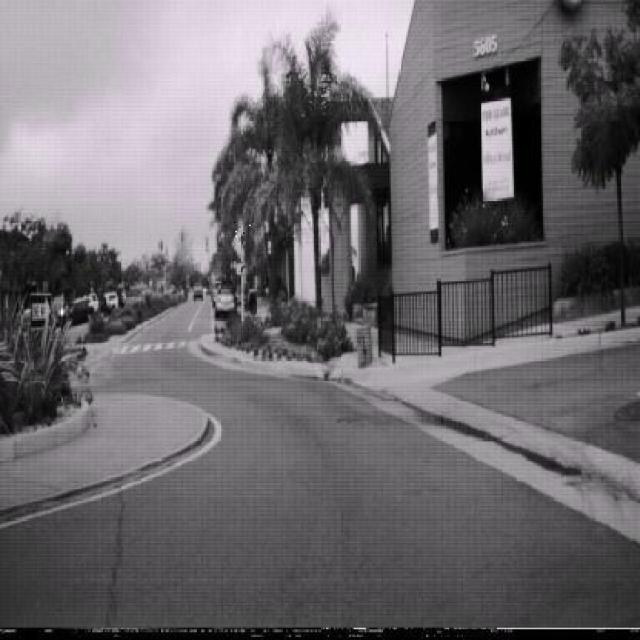pedestrianCrossing: (231, 222, 252, 262)
